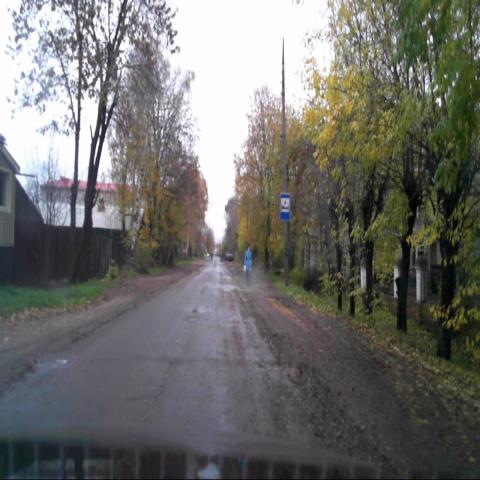7_2: (280, 193, 290, 221)
